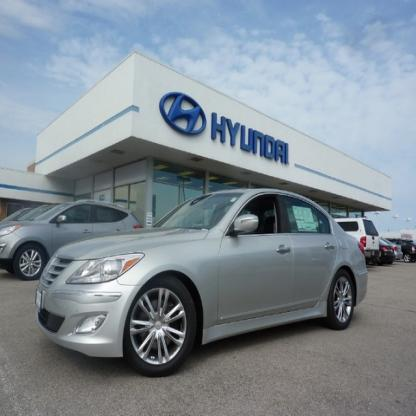Vehicle: (35, 189, 368, 380)
